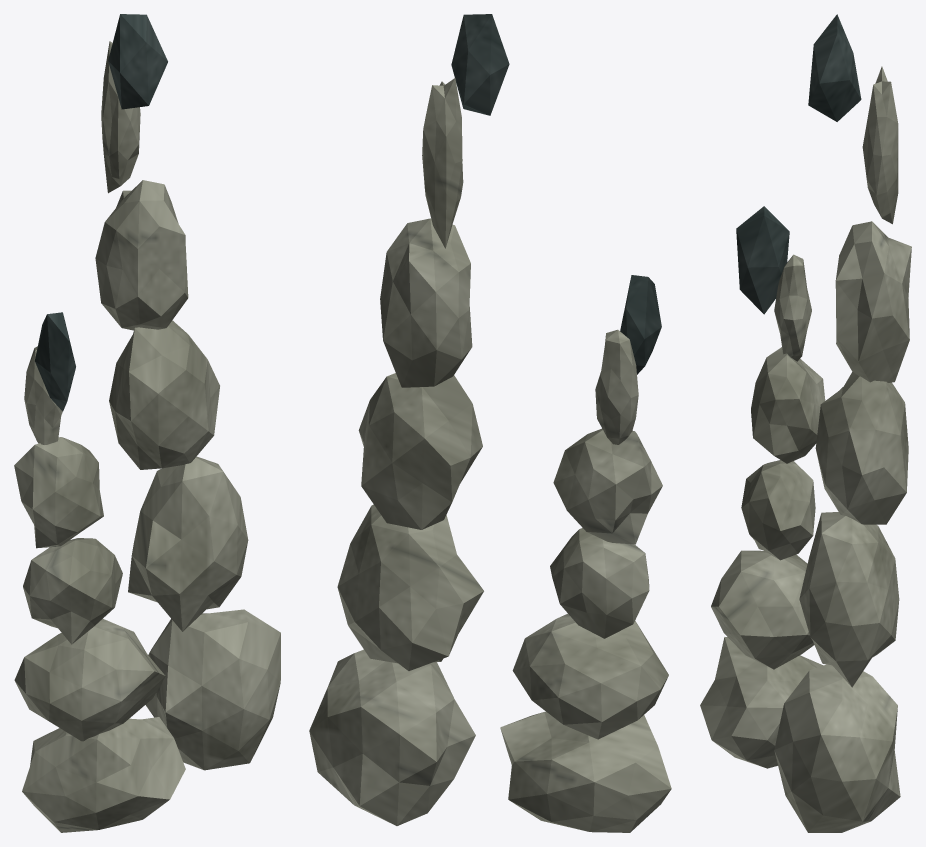
The model's file is 0063_rock_spire_13.glb.
The picture shows the model from 3 angles, left to right: view 1: azimuth 30°, elevation 25°; view 2: azimuth 150°, elevation 25°; view 3: azimuth 270°, elevation 25°; orthographic projection. The views are drawn at different scales.
Visible parts, largest first — view 1: stone_light, stone_dark; view 2: stone_light, stone_dark; view 3: stone_light, stone_dark.
Boxes of the visible parts, box(x1,y1,x2,y2) form: stone_light: box(14, 41, 280, 832); stone_dark: box(35, 14, 167, 411); stone_light: box(309, 78, 671, 832); stone_dark: box(451, 14, 661, 374); stone_light: box(700, 66, 911, 832); stone_dark: box(736, 14, 861, 314).
Bounding box in the file's own units: 1.37 × 3.47 × 0.87.
2 materials, 2 textured.
